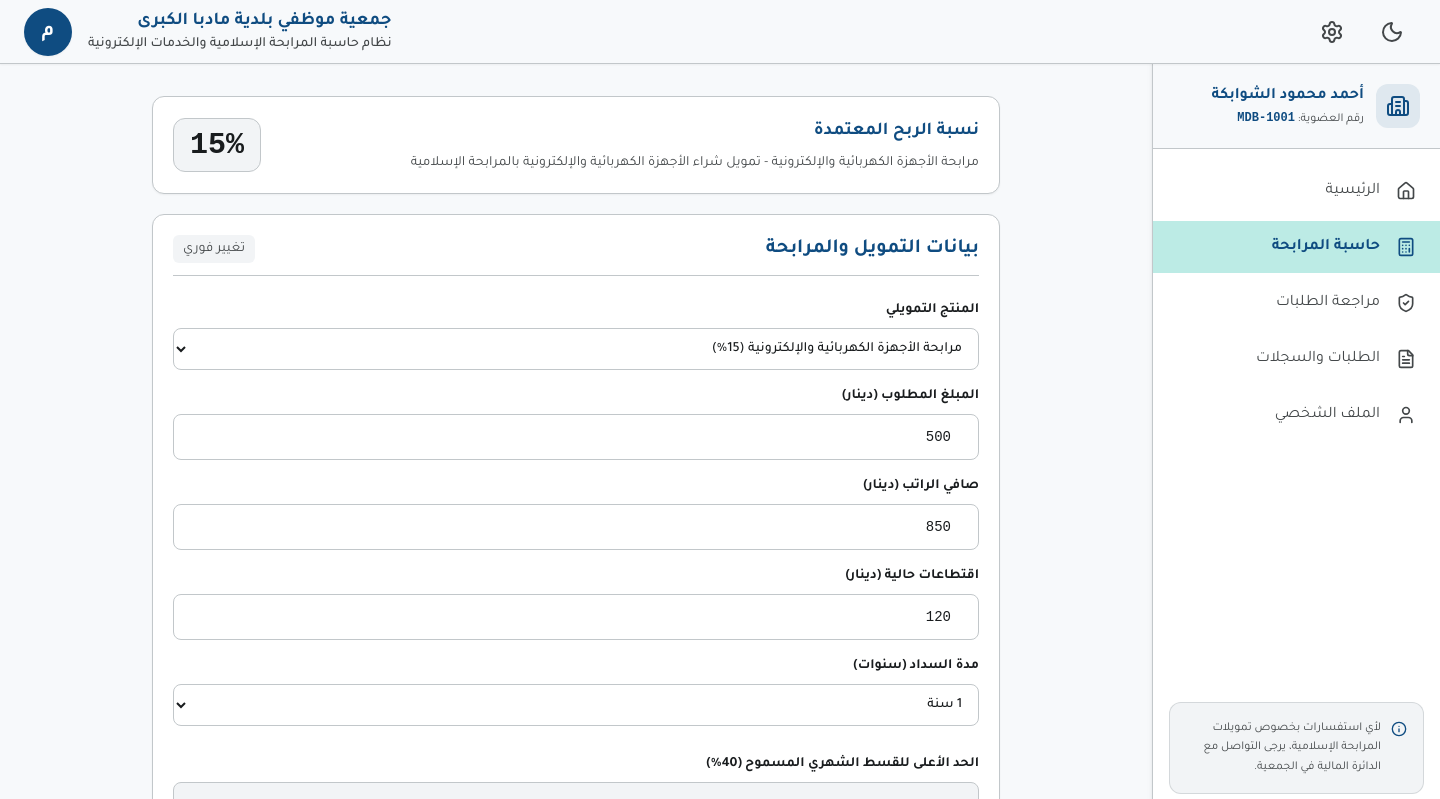
it: App with Convex queries and mutations › renders the admin review screen when an admin opens the tab
Click the button "مراجعة الطلبات". click: click(1296, 303)
box: [1153, 277, 1439, 329]
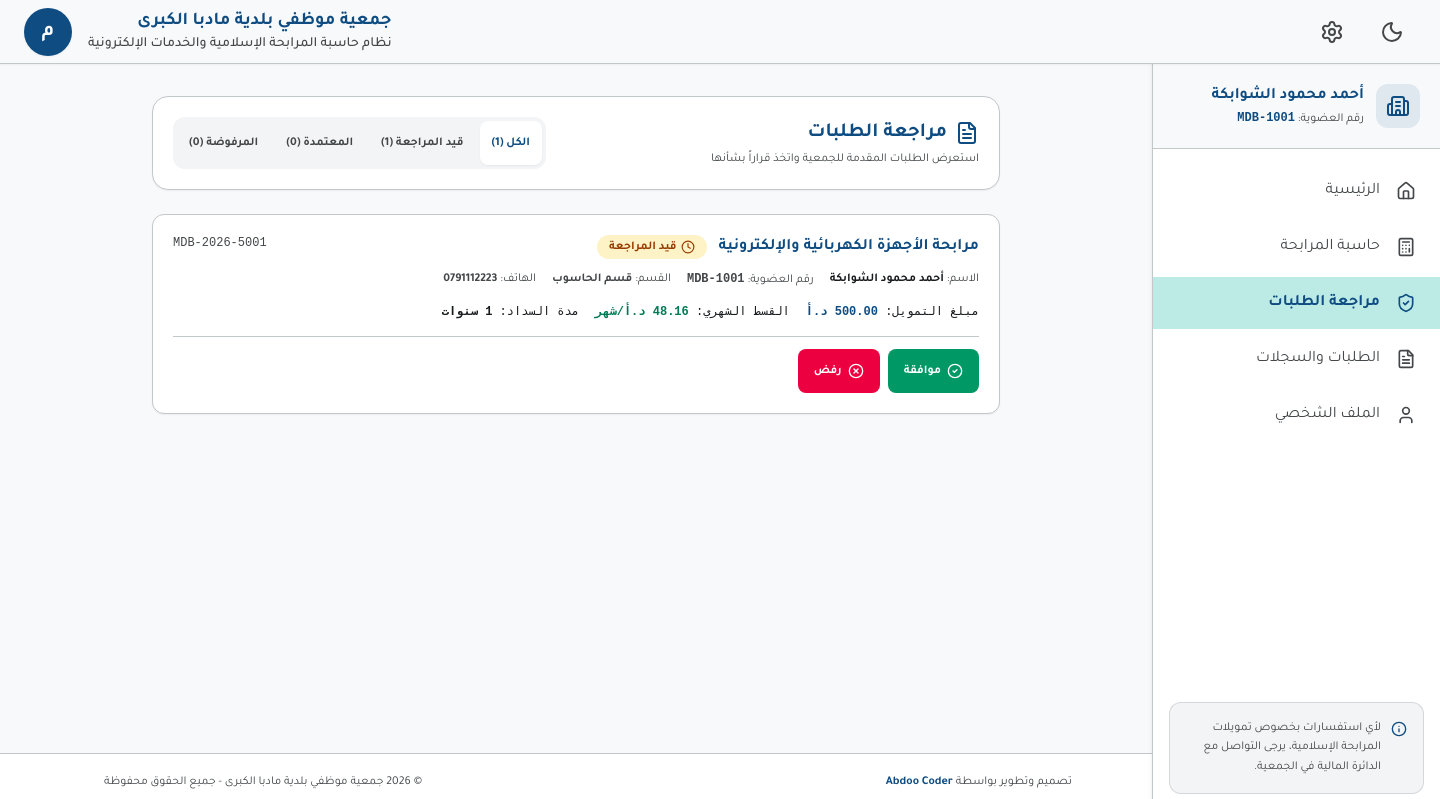
Expected: the 2nd text "مراجعة الطلبات" is shown, [1268, 291, 1380, 315]
Expected: the text "MDB-2026-5001" is shown, [173, 235, 267, 251]
